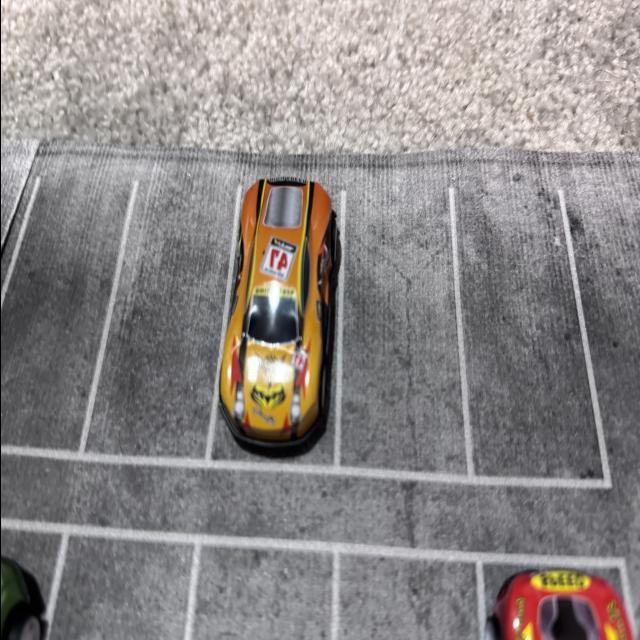Car: (220, 144, 388, 498)
